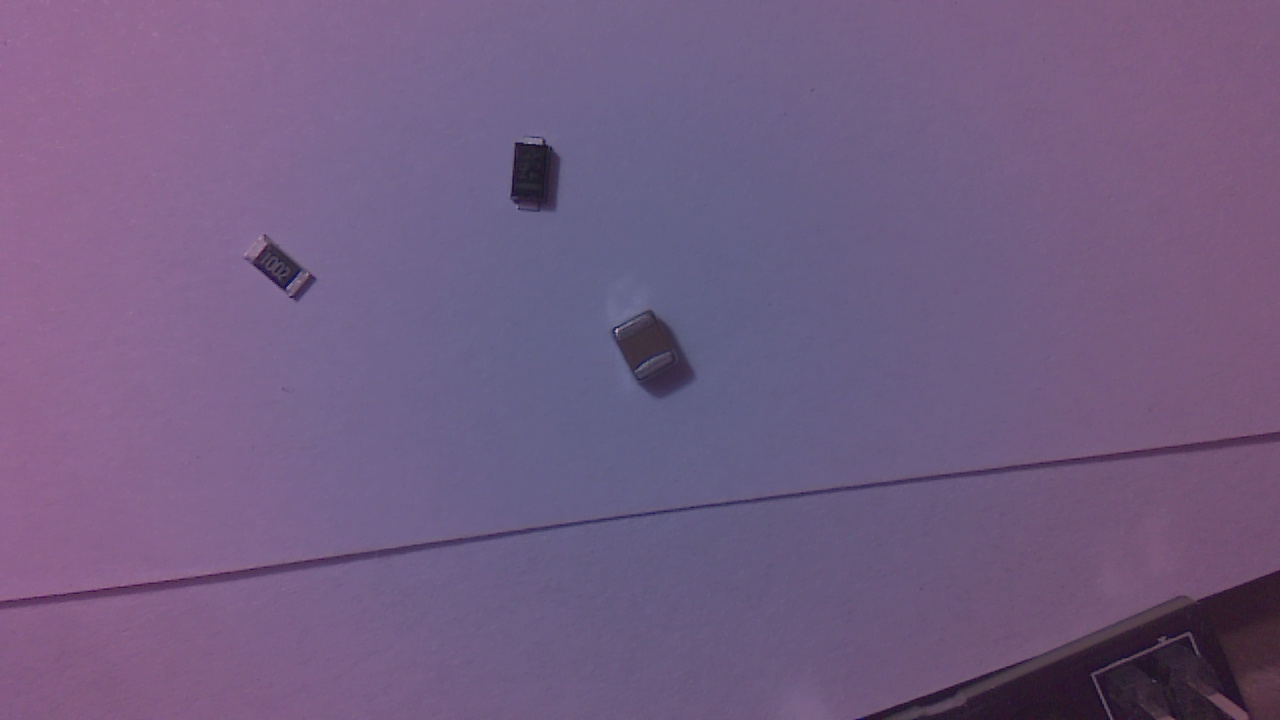Condensator: (616, 312, 687, 391)
Diode: (515, 141, 559, 220)
Resistor: (247, 238, 319, 305)
